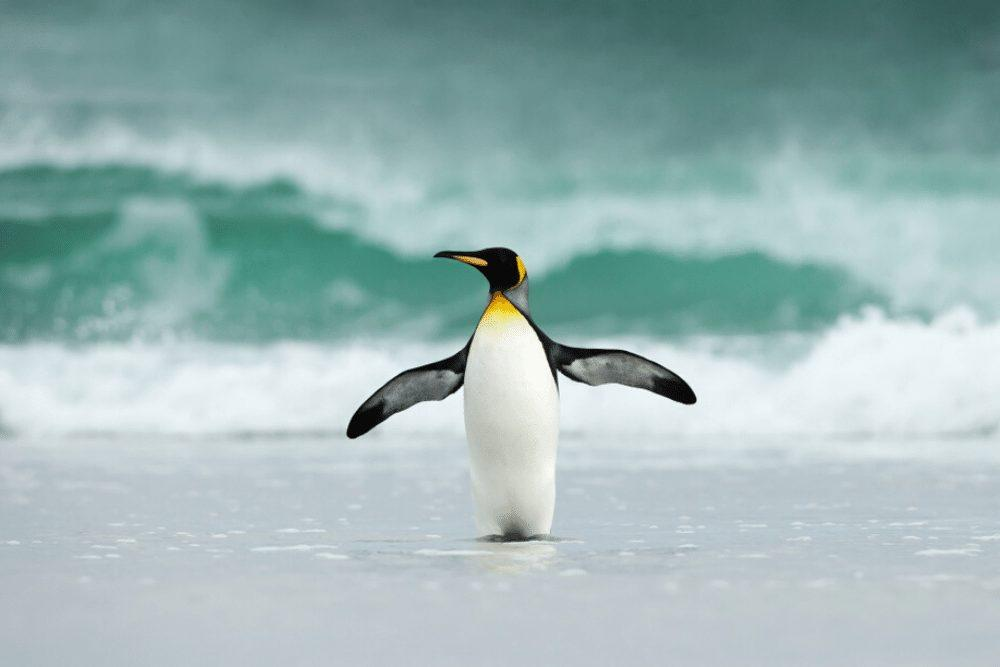king: (303, 160, 709, 582)
